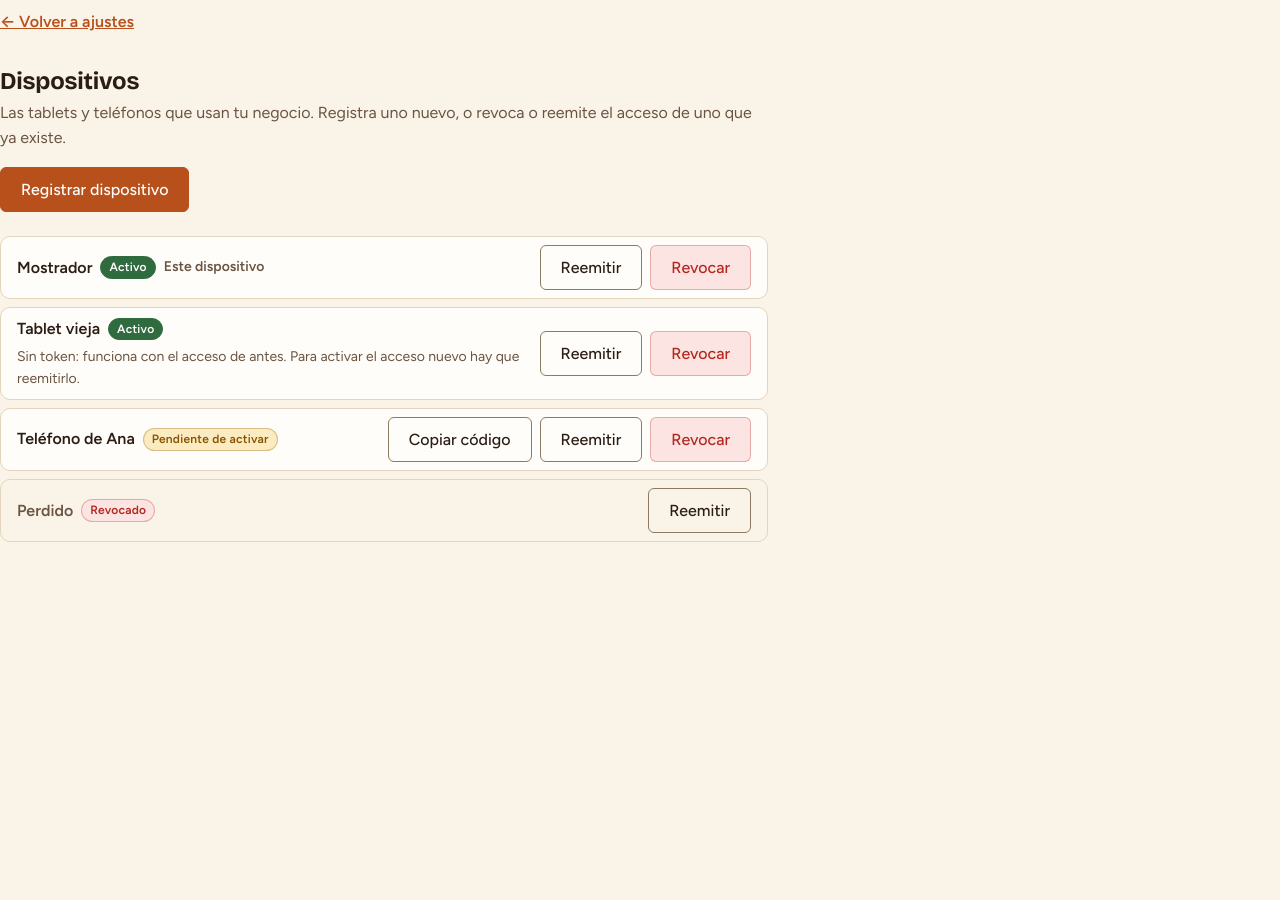
DevicesView — registrar un dispositivo › correo en modo de prueba (approver-fallback): aviso honesto, no de éxito
The image size is (1280, 900).
Click the button "Registrar dispositivo" at (95,189), box [0, 167, 189, 212]
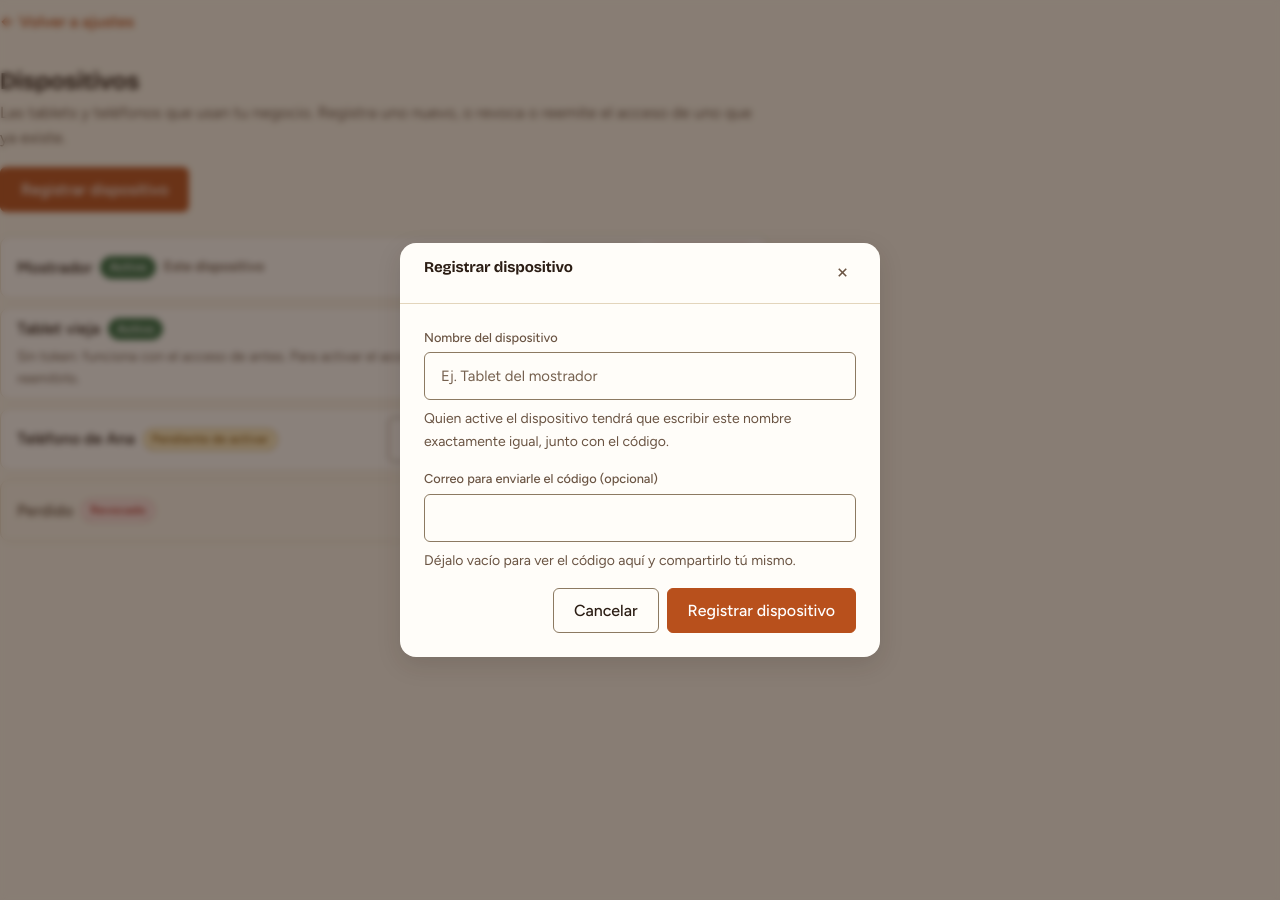
Type "Tablet nueva" into the field labelled "Nombre del dispositivo" at (640,376), box [424, 352, 856, 400]
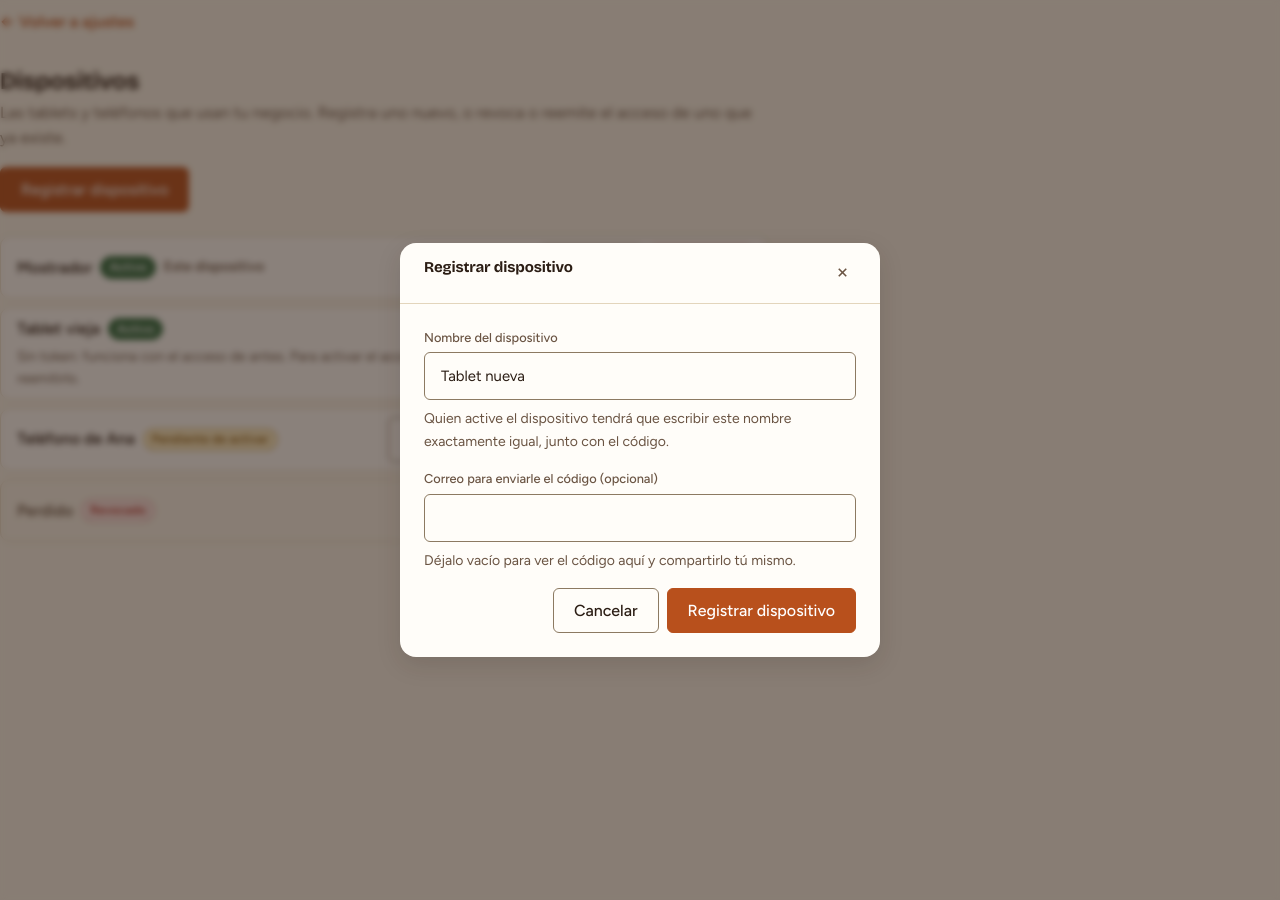
Type "ana@example.com" into the field labelled "Correo para enviarle el código (opcional)" at (640,518), box [424, 494, 856, 542]
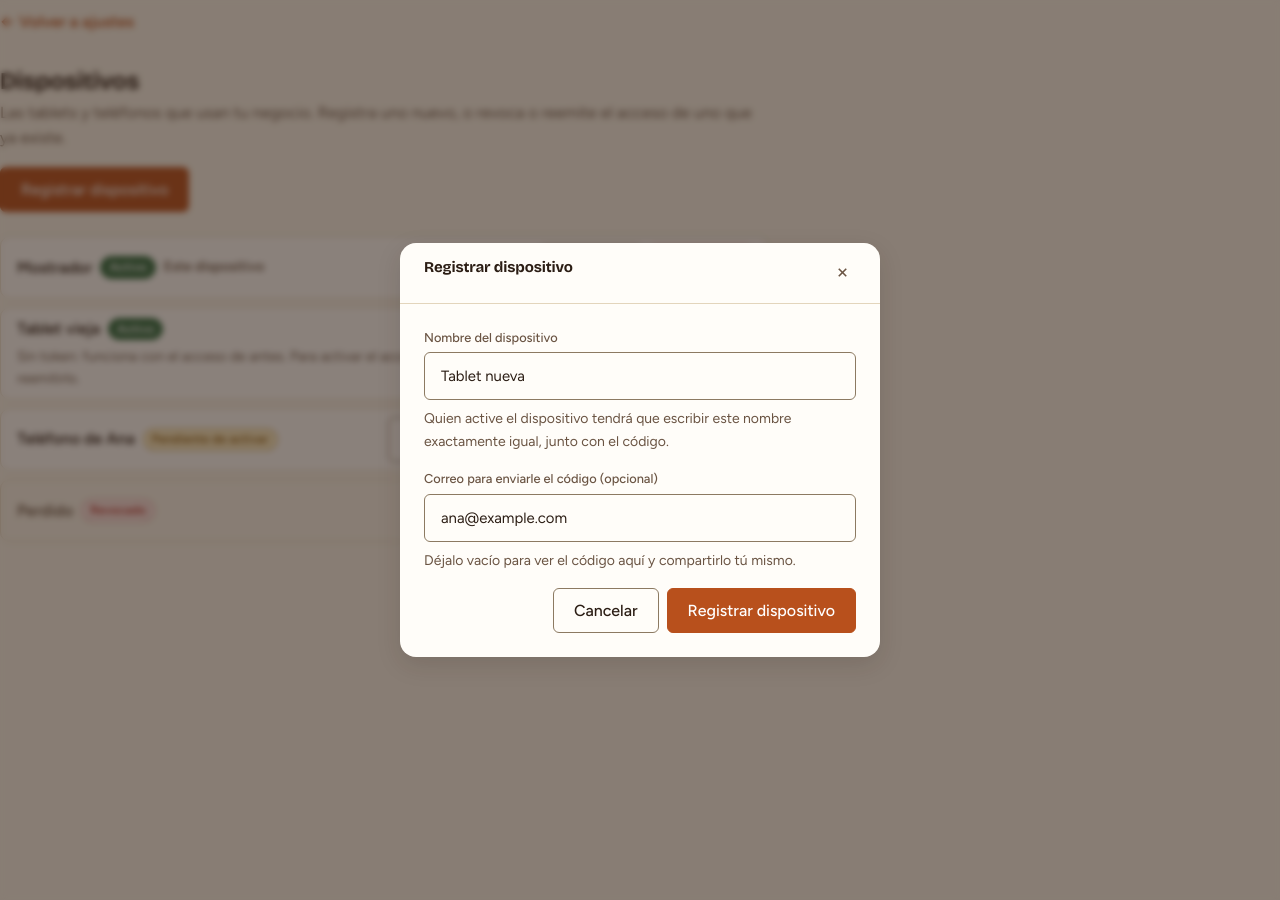
Submit the form with class "device-create-form", box [424, 328, 856, 633]
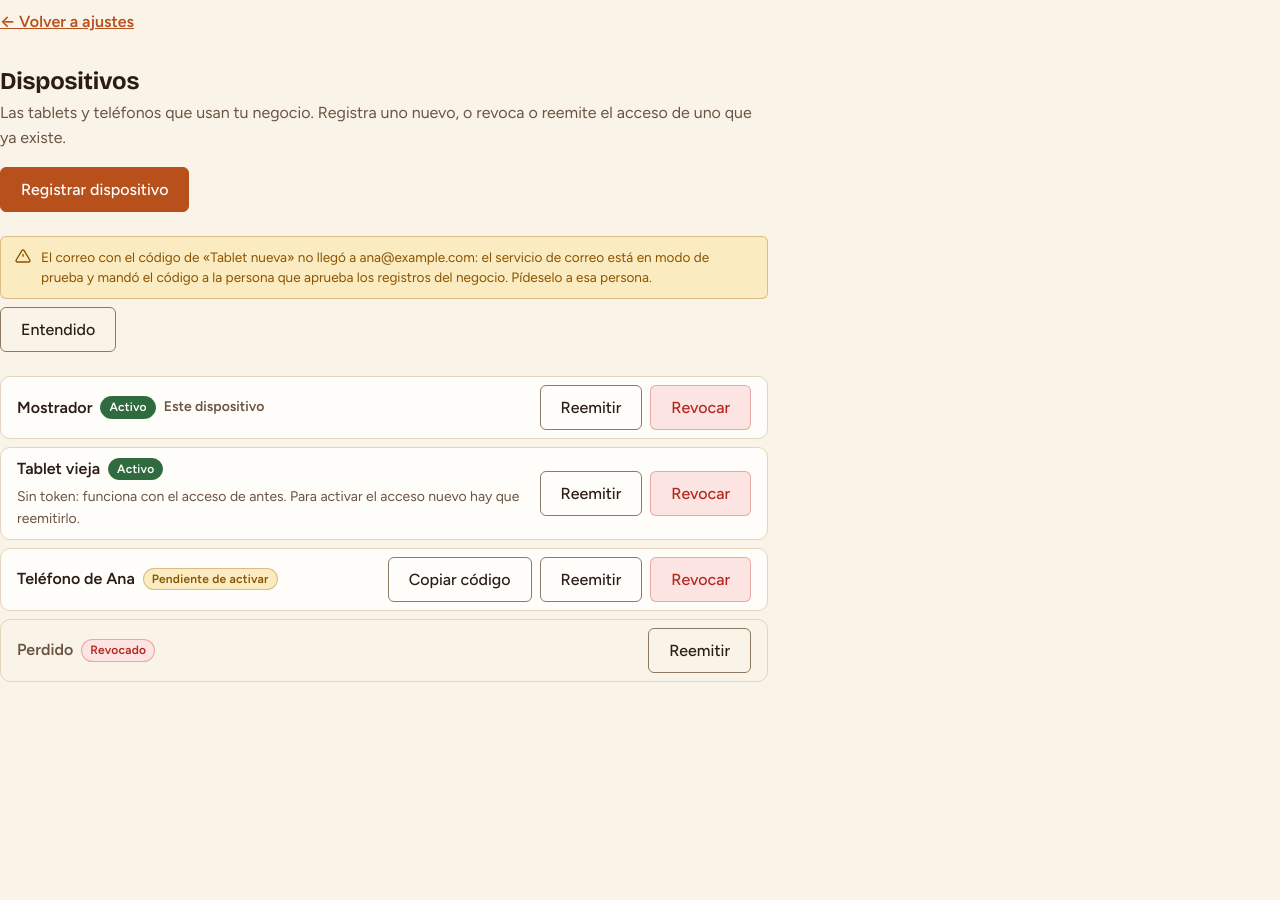
Now the message with class "app-alert--warning" is shown, box [0, 236, 768, 299]
Now the element with class "device-code-notice" shows "modo de prueba", box [41, 249, 709, 285]
